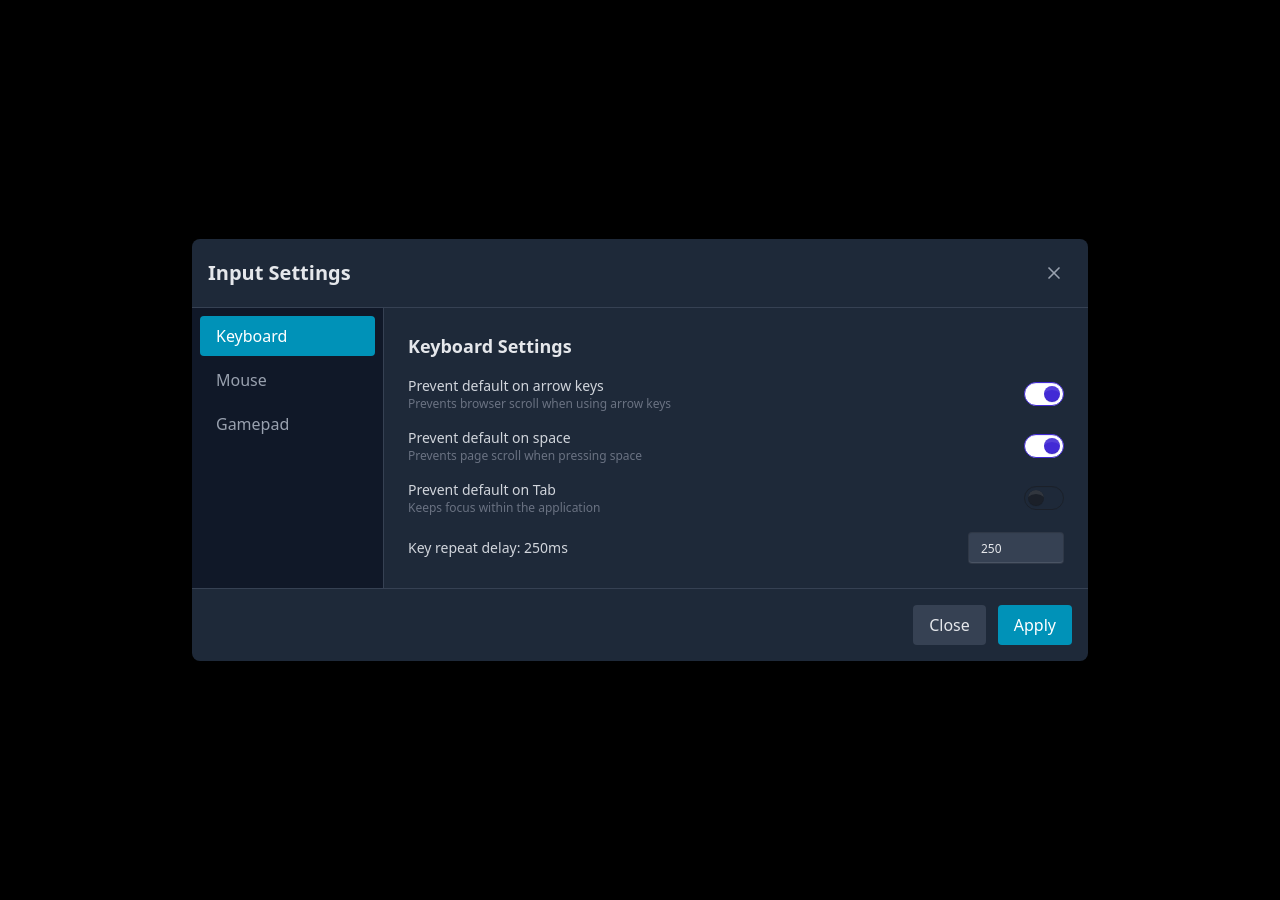
Test case: InputModal › switches to mouse settings when mouse tab is clicked
Click the button "Mouse".
click(288, 380)  # box [200, 360, 375, 400]
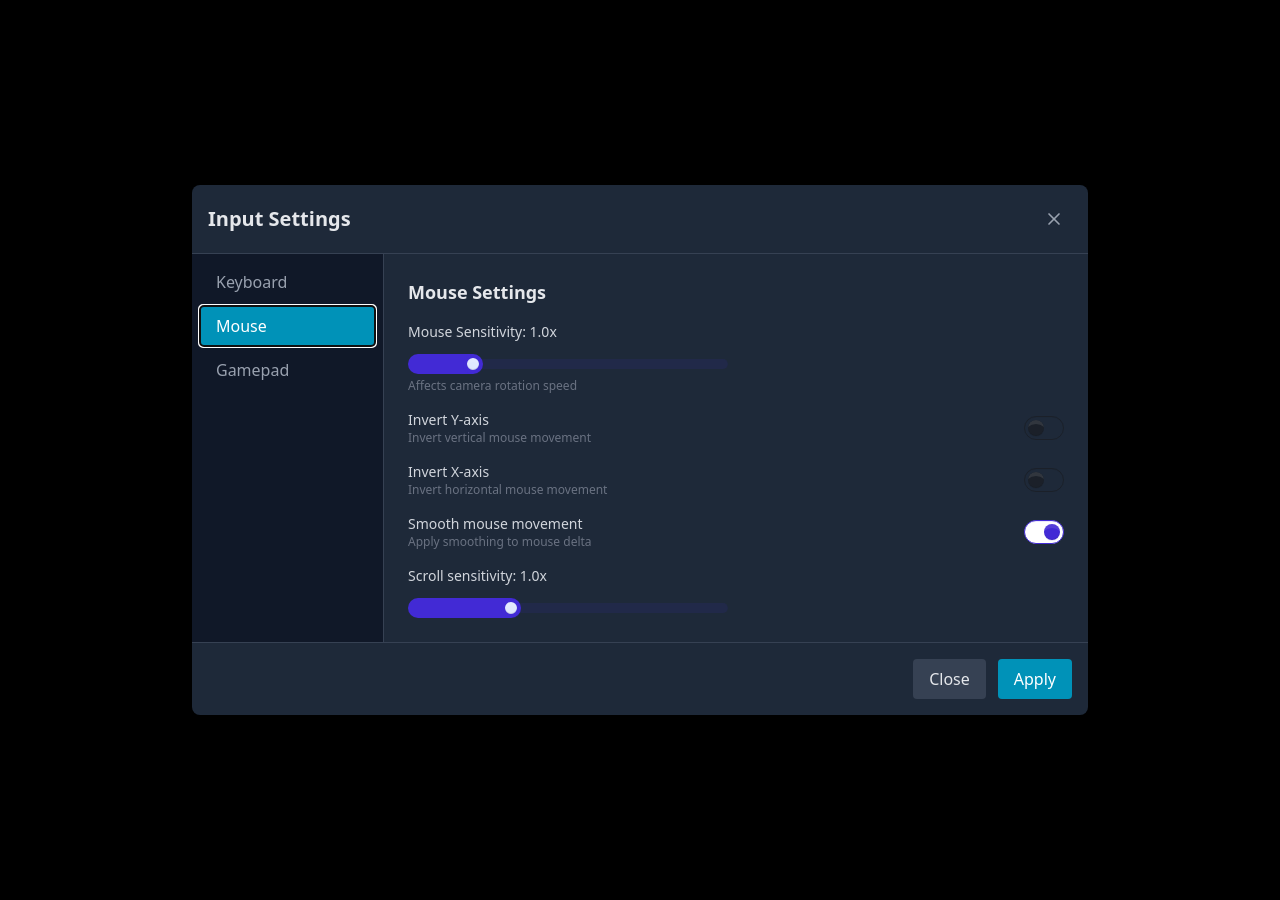
Result: the heading "Mouse Settings" is shown at [408, 280, 546, 304]
Result: the heading "Keyboard Settings" is gone
